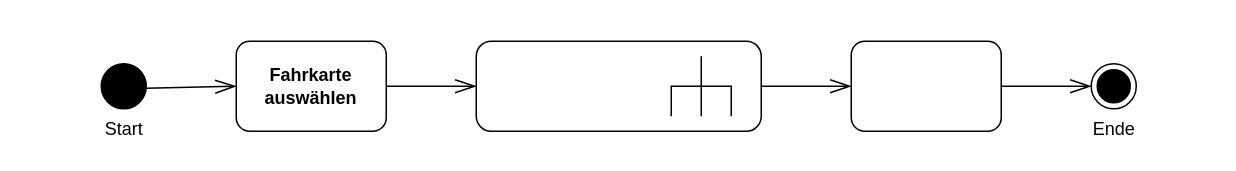
This 1236x171 diagram has some shape labels left out. Here are the shapes that lost their labels. From the top down, the centre of each, then its label:
At point 618,85: "Zahlung abwickeln".
At point 925,85: "Fahrkarte ausgeben".
